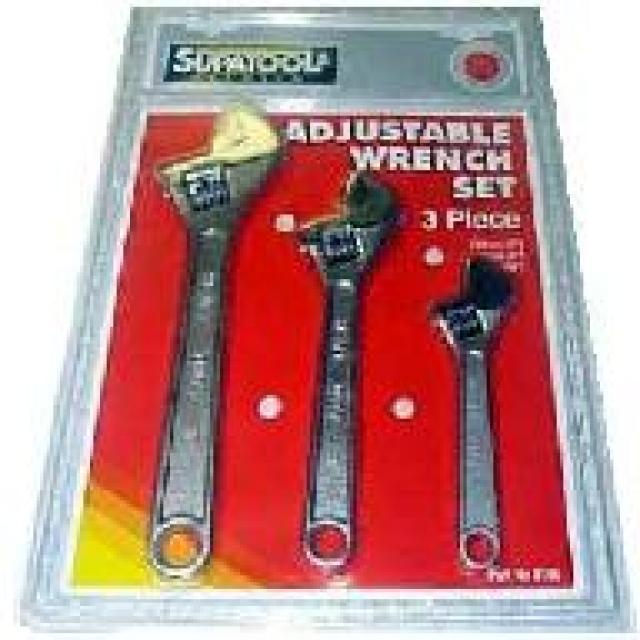wrench: (142, 97, 288, 580), (286, 162, 409, 574), (426, 246, 523, 578)
